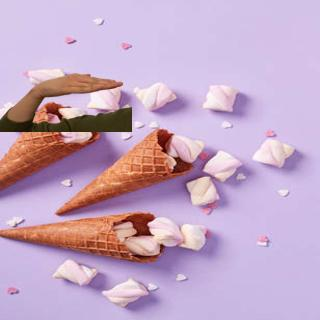WAIT: (32, 69, 127, 101)
